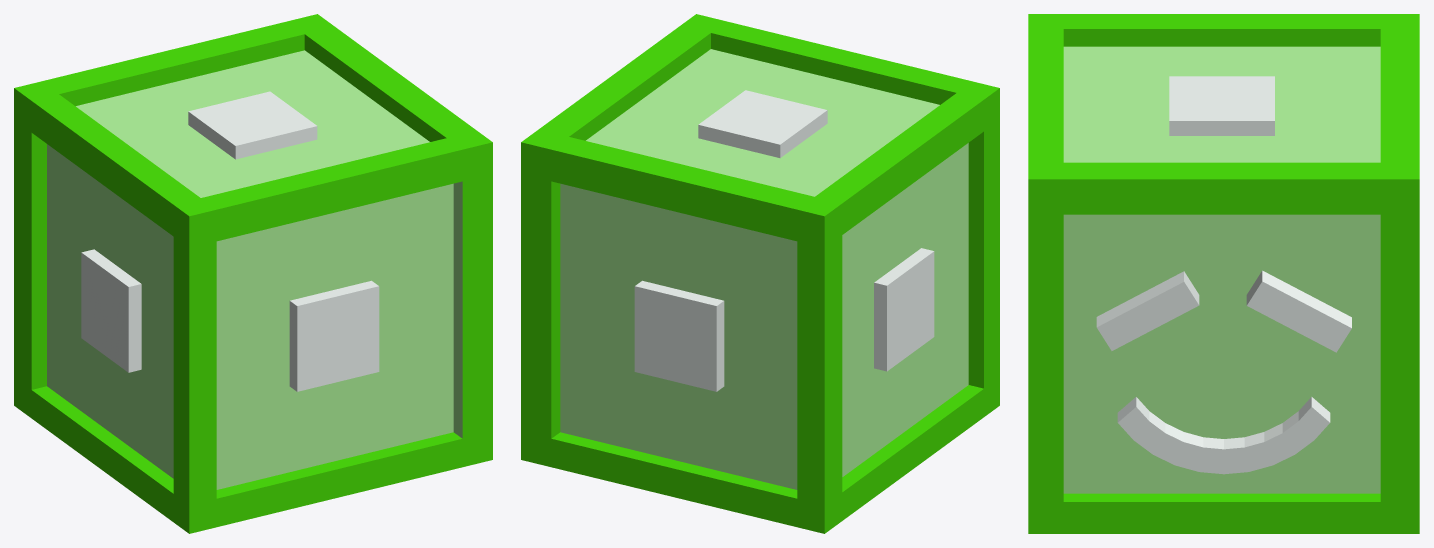
File: GGGreen.fbx
The picture shows the model from 3 angles, left to right: view 1: azimuth 30°, elevation 25°; view 2: azimuth 150°, elevation 25°; view 3: azimuth 270°, elevation 25°; orthographic projection. The views are drawn at different scales.
Visible parts, largest first — view 1: Body; view 2: Body; view 3: Body, Circle.001, Cube.010, Cube.009.
Boxes of the visible parts, <box> form: Body: <box>14,14,492,533</box>; Body: <box>521,14,999,533</box>; Body: <box>1028,14,1419,533</box>; Circle.001: <box>1117,397,1330,474</box>; Cube.010: <box>1246,270,1351,352</box>; Cube.009: <box>1096,271,1199,350</box>.
Bounding box in the file's own units: 203 × 200 × 200.
